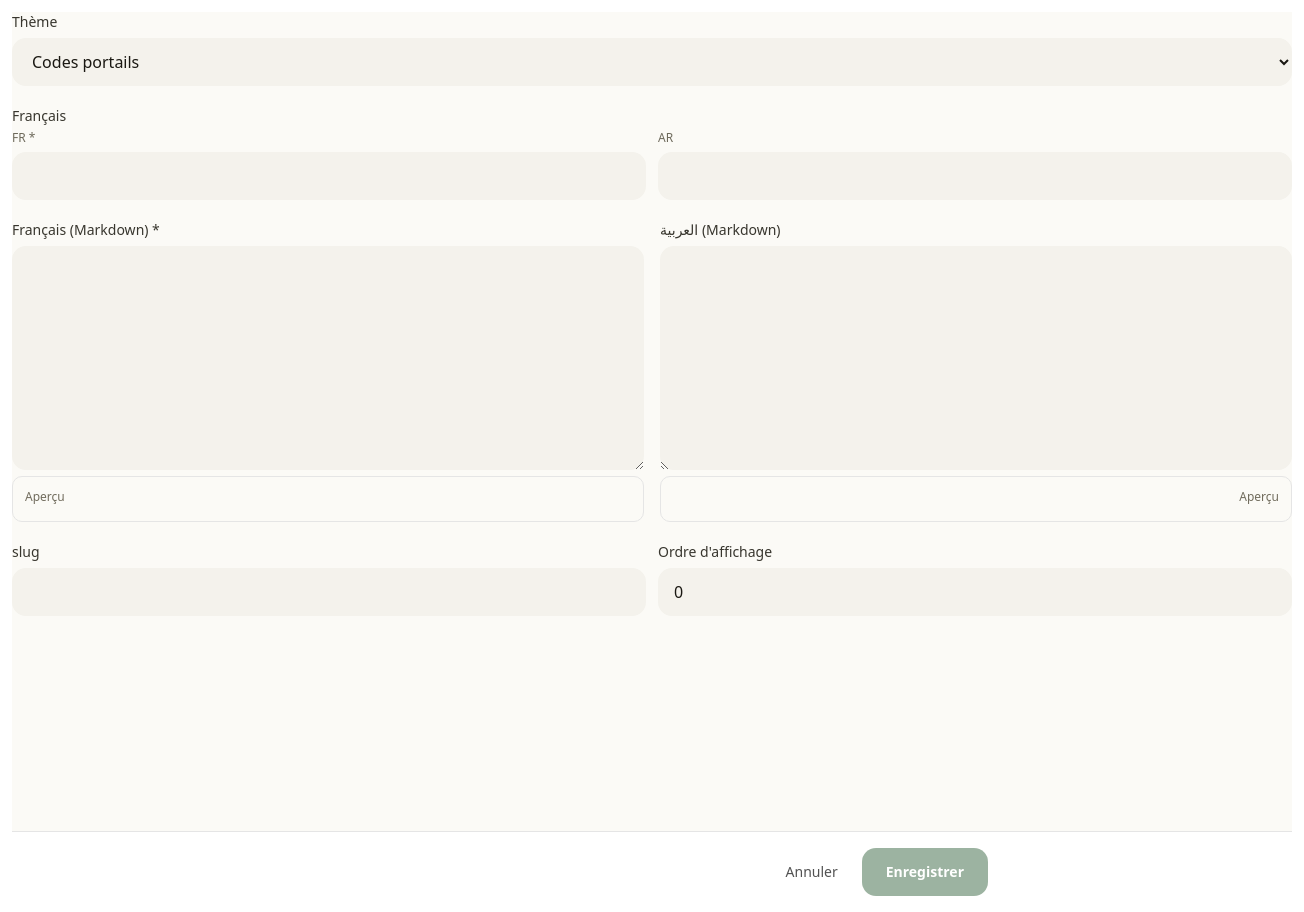
Test case: DurableEntryForm — Guide › la preview rend le Markdown saisi en FR
The image size is (1304, 912).
Type "# Titre preview" into the text box named "body_fr_markdown" at [328, 358], box top-left (12, 246), bottom-right (644, 470)
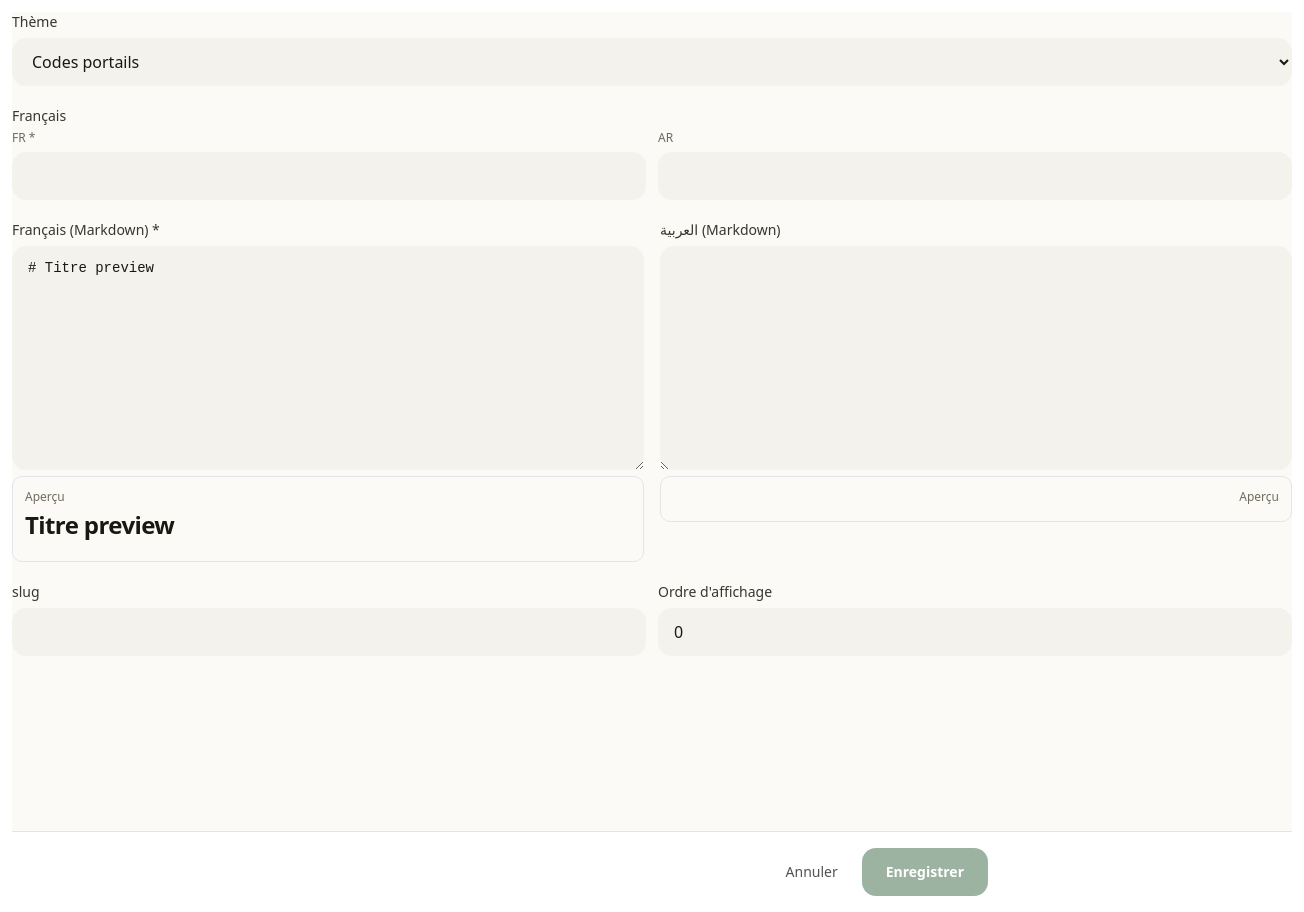
Check: the heading "Titre preview" is shown, box top-left (25, 508), bottom-right (174, 541)
